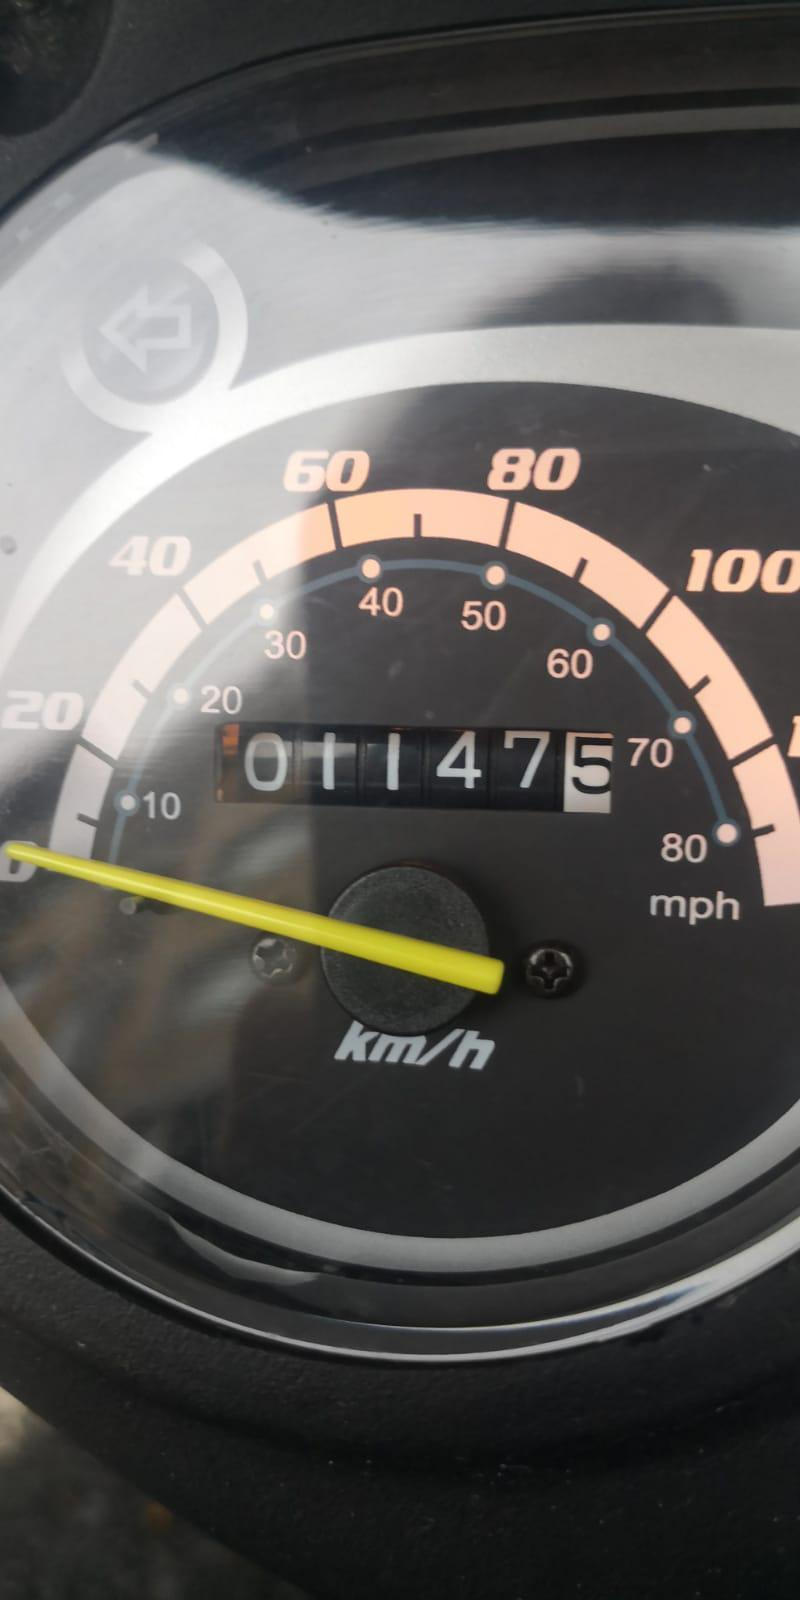0: (242, 724, 291, 799)
1: (378, 730, 409, 793), (316, 729, 342, 792)
4: (428, 726, 484, 797)
5: (571, 731, 618, 801)
7: (499, 724, 554, 792)
odometer: (210, 714, 629, 823)
